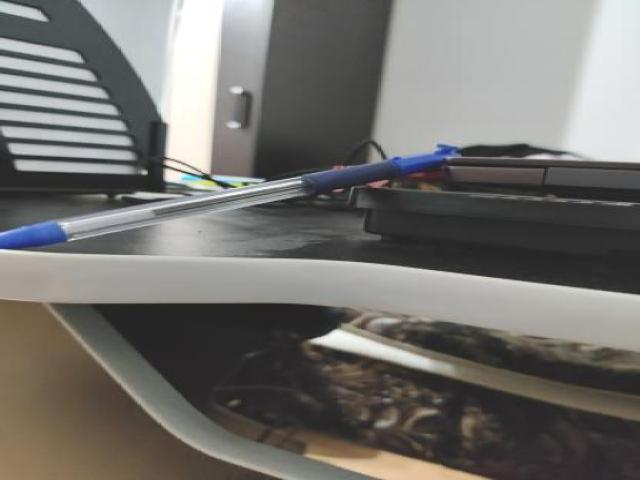PEN: (0, 138, 462, 255)
